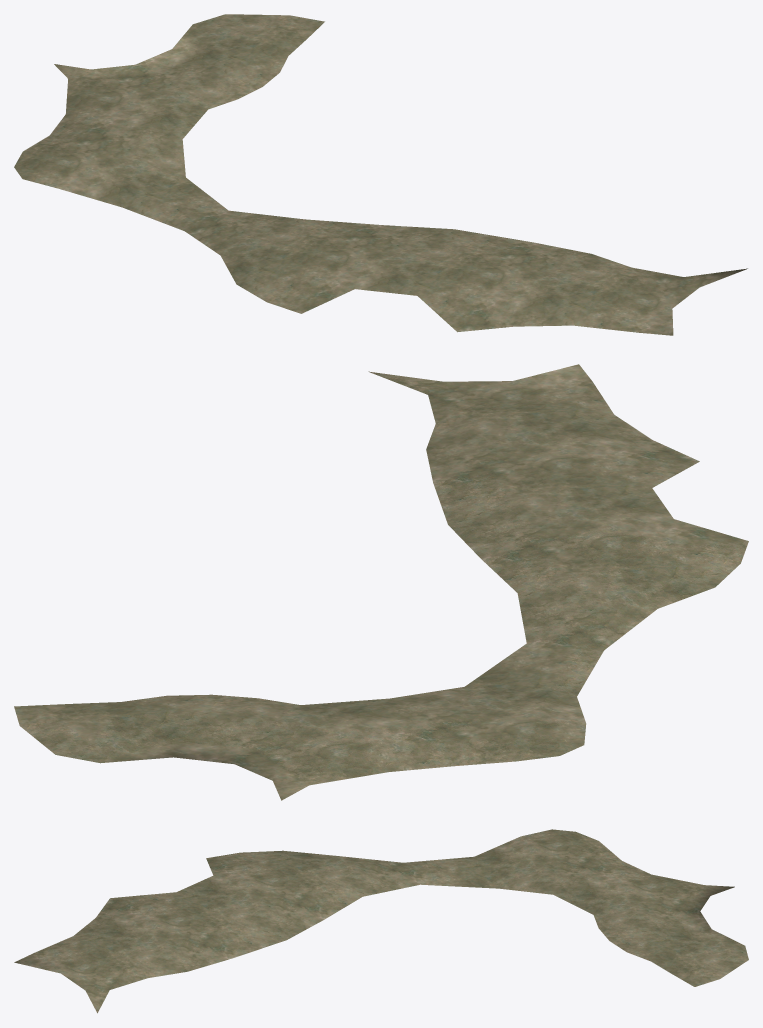
File: EKH_CAVERNS_PS_CA_SAND_BAR_8574.fbx
3 views of the same model, one above another, from view 1: azimuth 30°, elevation 25°; view 2: azimuth 150°, elevation 25°; view 3: azimuth 270°, elevation 25° (orthographic). The views are drawn at different scales.
Parts seen in each view (by area): view 1: EKH_CAVERNS_PS_CA_SAND_BAR_8574; view 2: EKH_CAVERNS_PS_CA_SAND_BAR_8574; view 3: EKH_CAVERNS_PS_CA_SAND_BAR_8574.
Boxes of the visible parts, x1=… form: EKH_CAVERNS_PS_CA_SAND_BAR_8574: x1=14, y1=14, x2=747, y2=335; EKH_CAVERNS_PS_CA_SAND_BAR_8574: x1=14, y1=364, x2=748, y2=800; EKH_CAVERNS_PS_CA_SAND_BAR_8574: x1=14, y1=829, x2=748, y2=1013.
Bounding box in the file's own units: 146670 × 5327 × 247405.
Materials: 1 (1 with a texture image).
